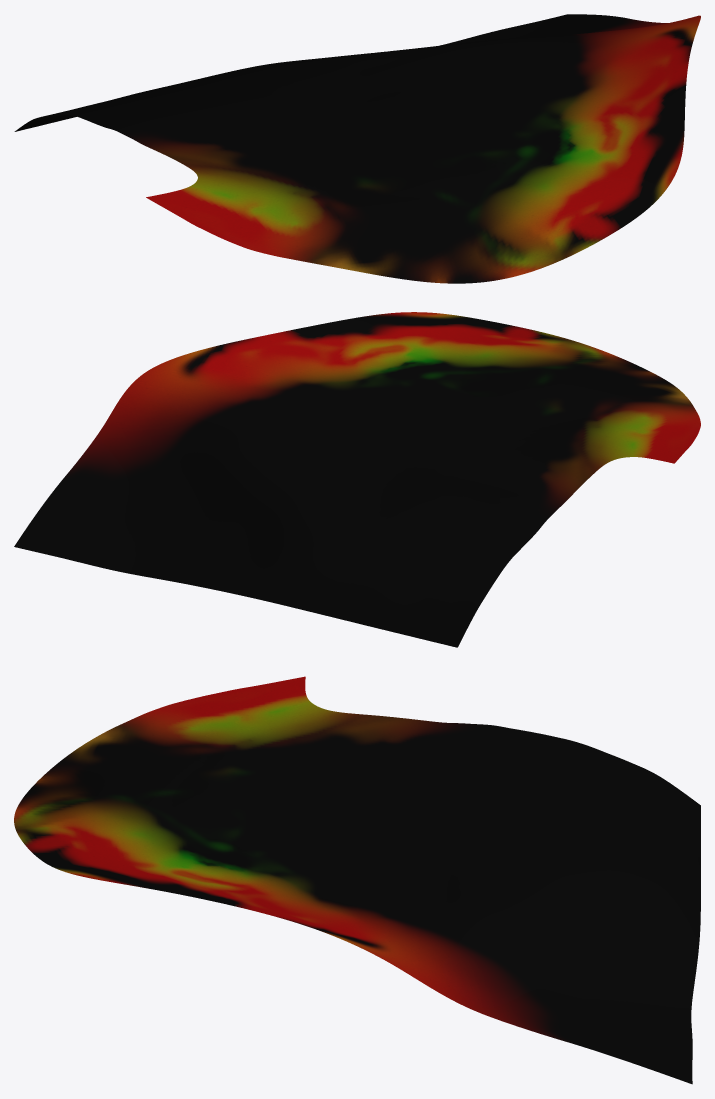
Rendered from island_v7.glb.
The picture shows the model from 3 angles, top to bottom: view 1: azimuth 30°, elevation 25°; view 2: azimuth 150°, elevation 25°; view 3: azimuth 270°, elevation 25°; orthographic projection. The views are drawn at different scales.
Visible parts, largest first — view 1: Island_Terrain_WEB; view 2: Island_Terrain_WEB; view 3: Island_Terrain_WEB.
Boxes of the visible parts, box(x1,y1,x2,y2) form: Island_Terrain_WEB: box(14, 14, 700, 283); Island_Terrain_WEB: box(14, 312, 700, 647); Island_Terrain_WEB: box(14, 676, 700, 1084).
Size of the model in its own units: 239 by 46.56 by 232.
1 material, 1 textured.
